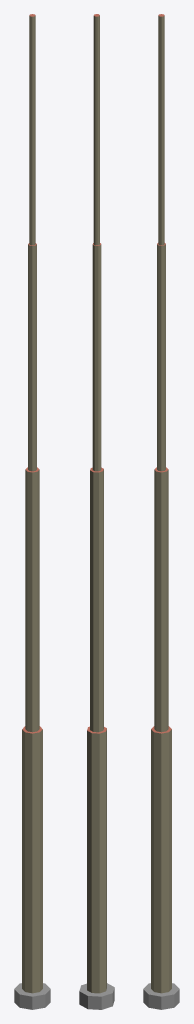
File: antenna.fbx
3 views of the same model, side by side, from view 1: azimuth 90°, elevation 25°; view 2: azimuth 150°, elevation 25°; view 3: azimuth 270°, elevation 25° (orthographic).
Parts seen in each view (by area): view 1: Cylinder_6; view 2: Cylinder_6; view 3: Cylinder_6.
Boxes of the visible parts, bbox=[...] form: Cylinder_6: bbox=[14, 14, 50, 1009]; Cylinder_6: bbox=[79, 14, 114, 1009]; Cylinder_6: bbox=[143, 14, 179, 1009].
Bounding box in the file's own units: 28.64 × 854 × 28.64.
